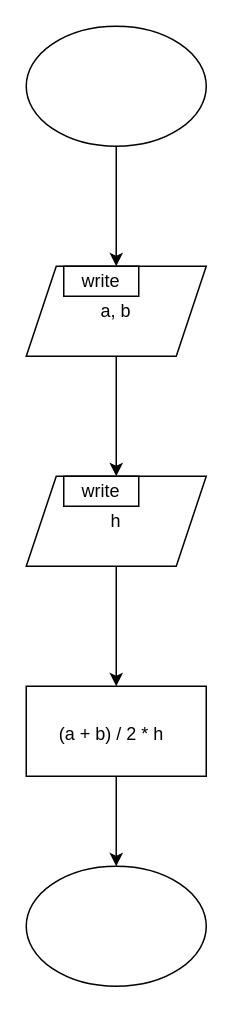
Some shapes in this 233 by 1013 pixel diagram are drawn without their labels. The shapes that lost their labels are listed below. From the top down, each one's centre as x and y in pixels, then its label:
At pixel 115 85: "Start".
At pixel 115 925: "End".
